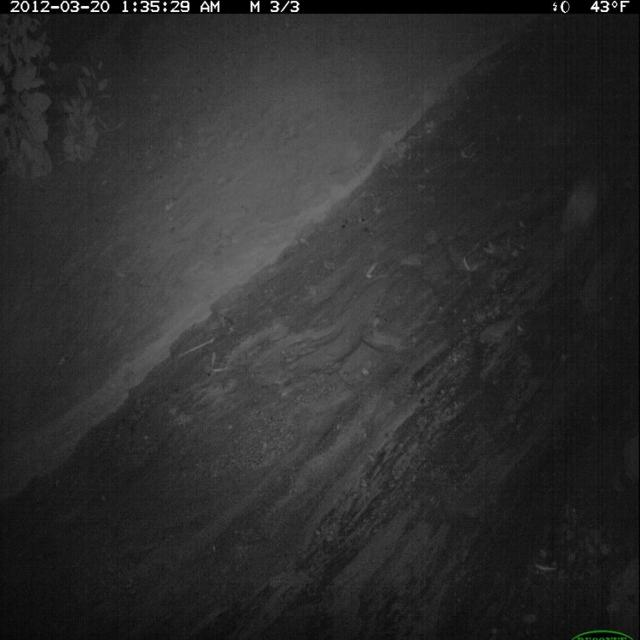opossum: (554, 162, 611, 262)
